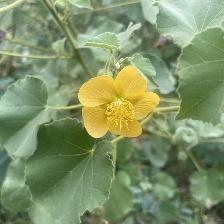indian mallow: (75, 66, 163, 142)
